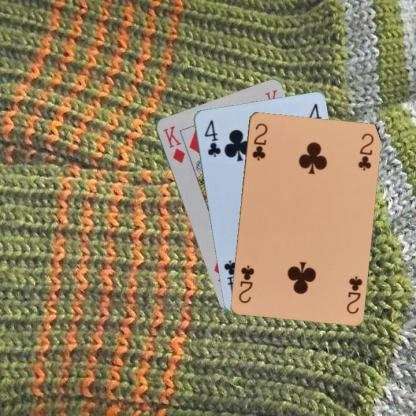2c: (249, 120, 269, 162), (344, 273, 363, 315)
4c: (202, 118, 222, 158)
Kd: (160, 122, 186, 164)
